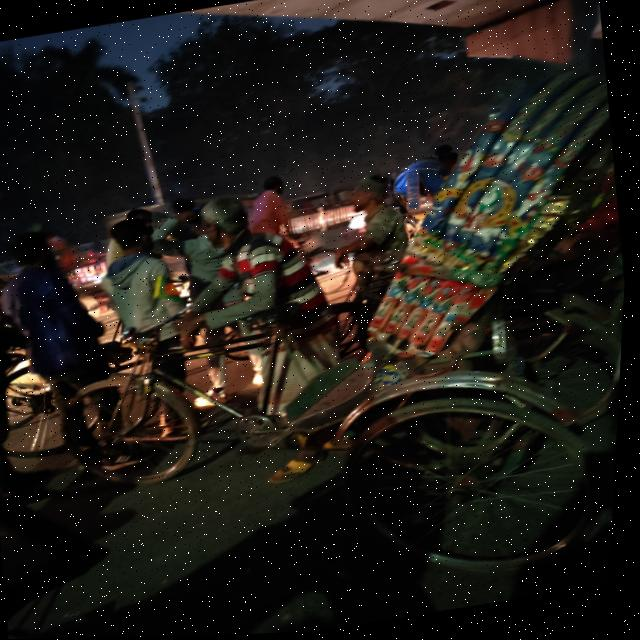rikshaw: (0, 56, 637, 640)
